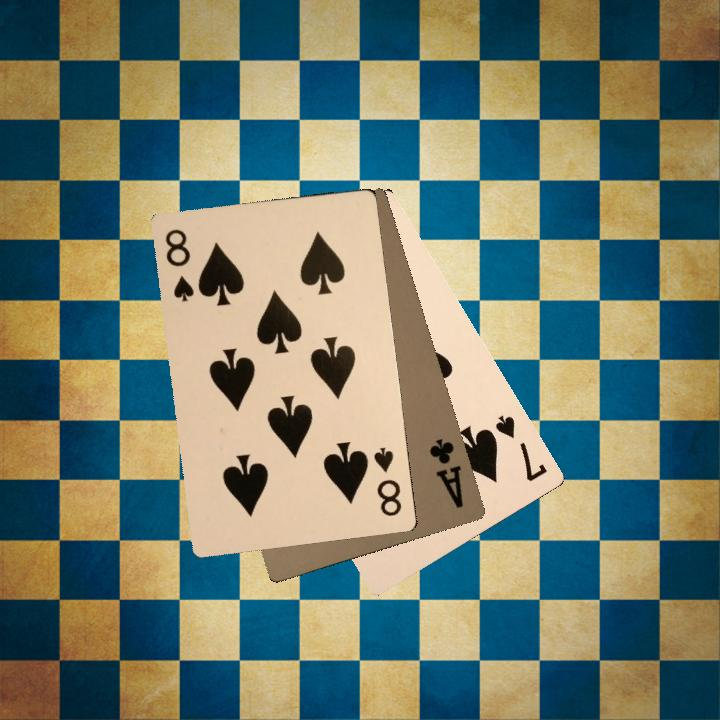7s: (490, 411, 550, 485)
8s: (161, 225, 196, 304), (370, 443, 405, 519)
Ac: (425, 434, 466, 511)
